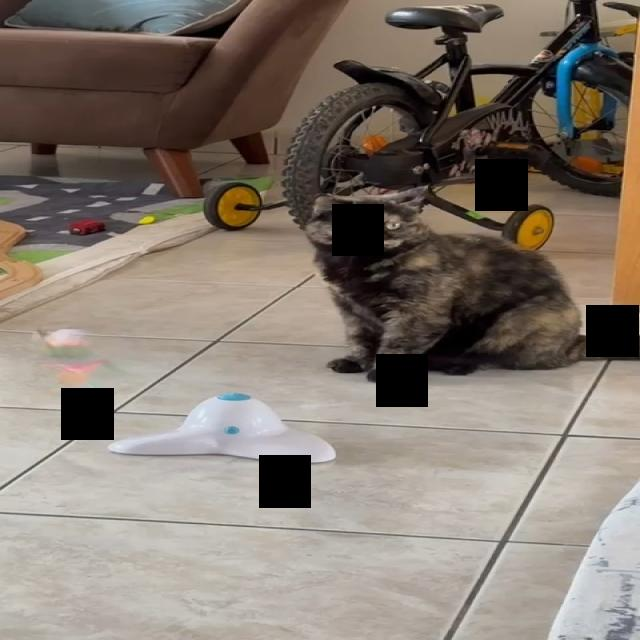authorized: (302, 185, 638, 383)
